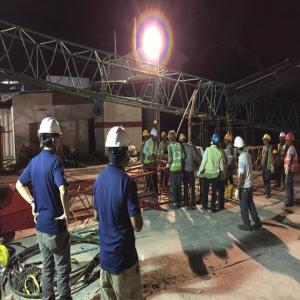blue: (213, 134, 222, 148)
red: (286, 133, 295, 147)
white: (106, 125, 130, 169), (39, 118, 62, 154), (235, 136, 245, 154), (151, 129, 159, 142), (280, 133, 287, 144)
yellow: (168, 132, 177, 145), (225, 134, 234, 146), (263, 135, 271, 146), (179, 134, 187, 145), (143, 131, 150, 142), (162, 133, 168, 142), (274, 150, 279, 157), (154, 121, 159, 128)
